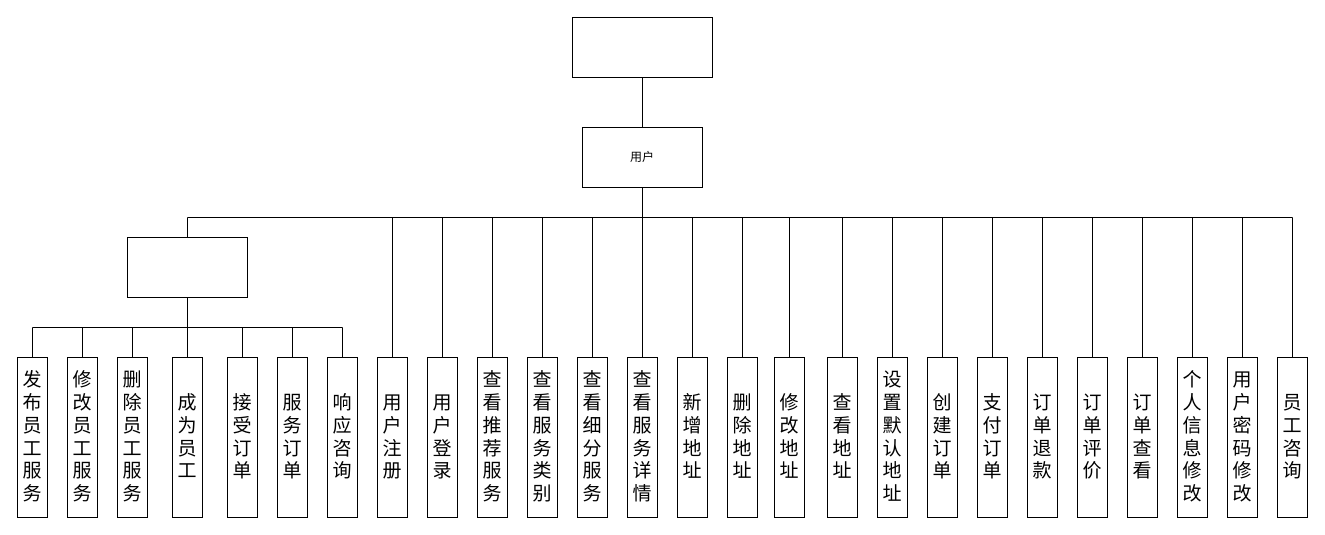
Image size: 1325x535. Some labels were removed from this diagram. Here are the shapes that lost their labels. From the top down, the centre of each, then its label:
At [642,47]: "家政保洁预约管理系统".
At [187,267]: "员工".
